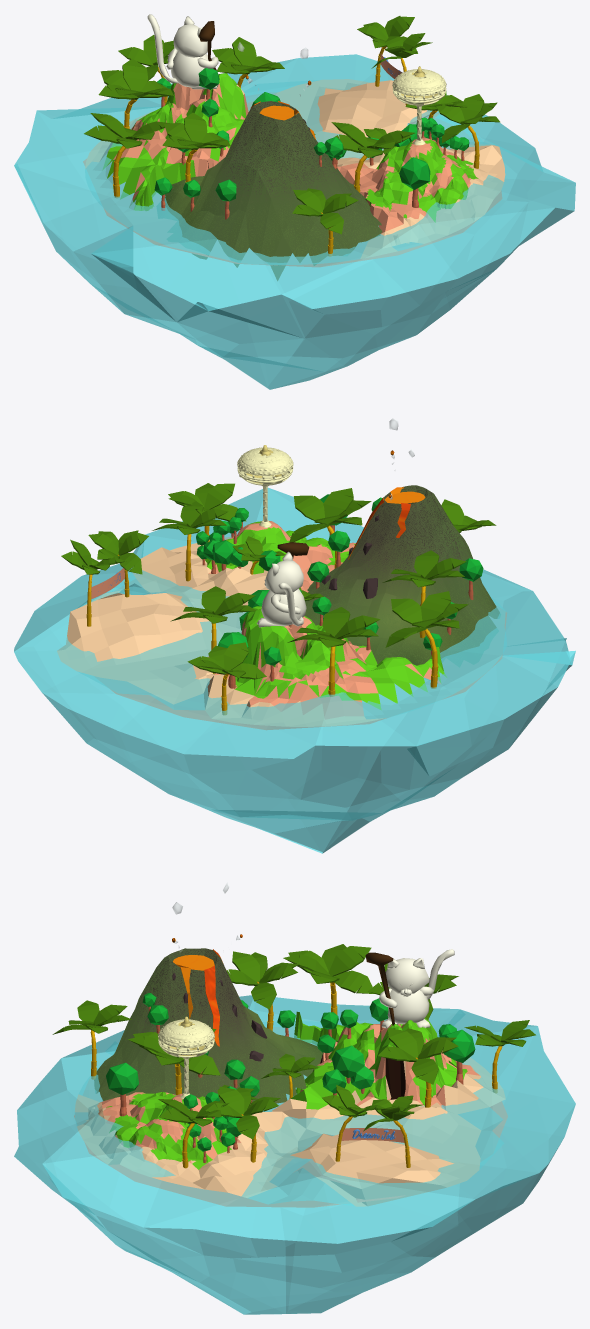
File: island-summer.glb
The picture shows the model from 3 angles, top to bottom: view 1: azimuth 30°, elevation 25°; view 2: azimuth 150°, elevation 25°; view 3: azimuth 270°, elevation 25°; orthographic projection. The views are drawn at different scales.
Parts seen in each view (by area): view 1: Island, Plane, volcano, Korin Full Body, Plane.010, Plane.004, Plane.009, Plane.007, Plane.011, Plane.013, Plane.012, KorinTower.Ttp (+6 smaller); view 2: Island, Plane, volcano, Korin Full Body, Plane.011, Plane.012, Plane.010, Plane.005, Plane.007, Plane.014, Plane.009, Plane.013 (+7 smaller); view 3: Island, Plane, volcano, Korin Full Body, Plane.001, Plane.011, Plane.007, Plane.009, Plane.008, Plane.015, KorinTower.Ttp, Plane.012 (+11 smaller).
Part boxes in pixels (x1,y1,x2,y2): Island: (14,54,575,389); Plane: (85,73,505,264); volcano: (165,101,382,280); Korin Full Body: (147,14,218,89); Plane.010: (98,58,173,99); Plane.004: (292,188,358,234); Plane.009: (162,112,230,149); Plane.007: (212,37,284,74); Plane.011: (84,113,171,148); Plane.013: (436,94,500,142); Plane.012: (331,122,414,157); KorinTower.Ttp: (392,66,446,96); Island: (14,487,575,853); Plane: (57,521,506,726); volcano: (305,485,499,665); Korin Full Body: (257,542,309,627); Plane.011: (385,591,468,647); Plane.012: (289,488,371,542); Plane.010: (287,607,380,647); Plane.005: (187,642,266,679); Plane.007: (170,586,255,623); Plane.014: (88,530,148,574); Plane.009: (382,550,466,587); Plane.013: (168,483,246,521); Island: (14,995,575,1314); Plane: (75,1011,505,1206); volcano: (94,948,322,1103); Korin Full Body: (365,949,454,1028); Plane.001: (74,1101,507,1207); Plane.011: (283,944,374,993); Plane.007: (378,1028,458,1084); Plane.009: (226,951,299,1009); Plane.008: (205,1086,280,1139); Plane.015: (173,949,223,1046); KorinTower.Ttp: (158,1016,214,1047); Plane.012: (128,1028,220,1075).
Bounding box in the file's own units: 2.38 × 1.89 × 2.38.
Materials: 20 (2 with a texture image).
